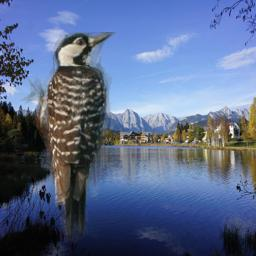Woodpecker: (20, 32, 117, 252)
